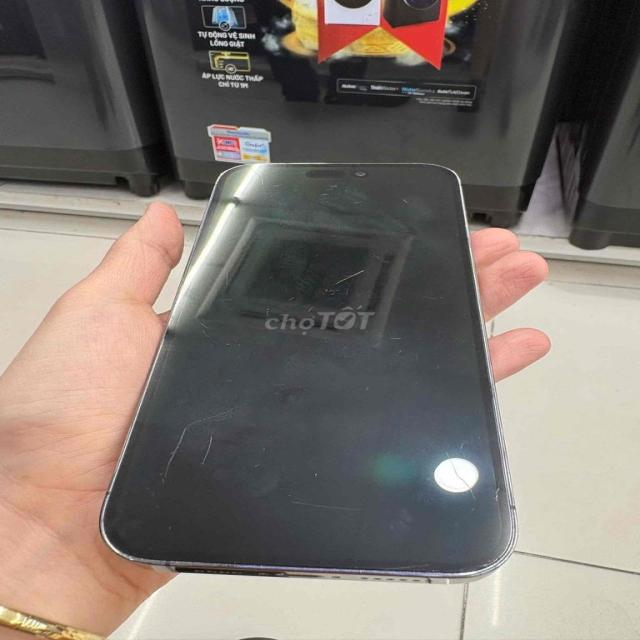scratch: (155, 398, 275, 486), (239, 170, 439, 216), (438, 434, 508, 530), (284, 474, 396, 522), (307, 252, 380, 309), (366, 328, 439, 374), (193, 311, 270, 354), (410, 288, 470, 308)
